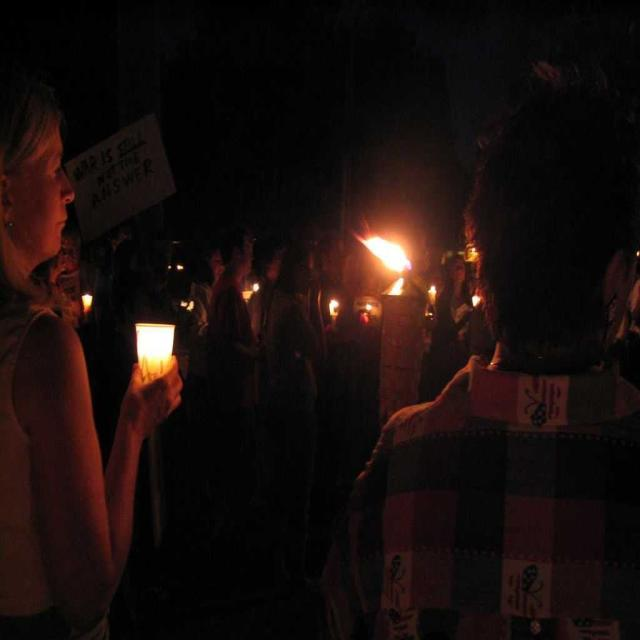Fire: (356, 220, 424, 306)
